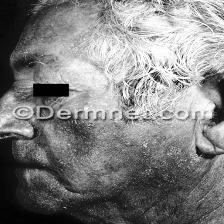Non-Cancerous Skin Condition: (15, 122, 224, 224), (0, 10, 116, 120)
